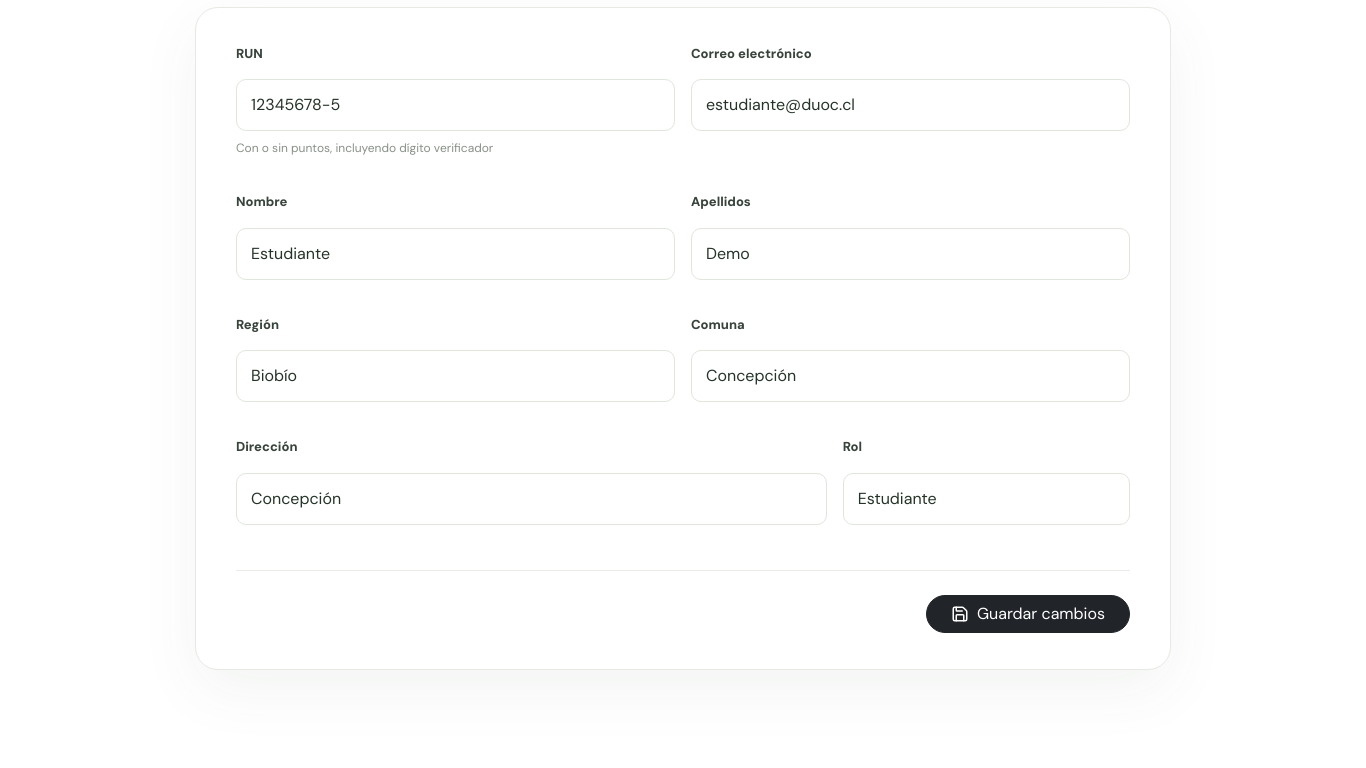
Test: Registro y usuarios › edita el rol de un usuario en el mantenedor
This screenshot has width=1366, height=768.
(page scrolled)
Select "Administrador" in the dropdown labelled "Rol" at point(986, 499), box [843,473,1130,525]
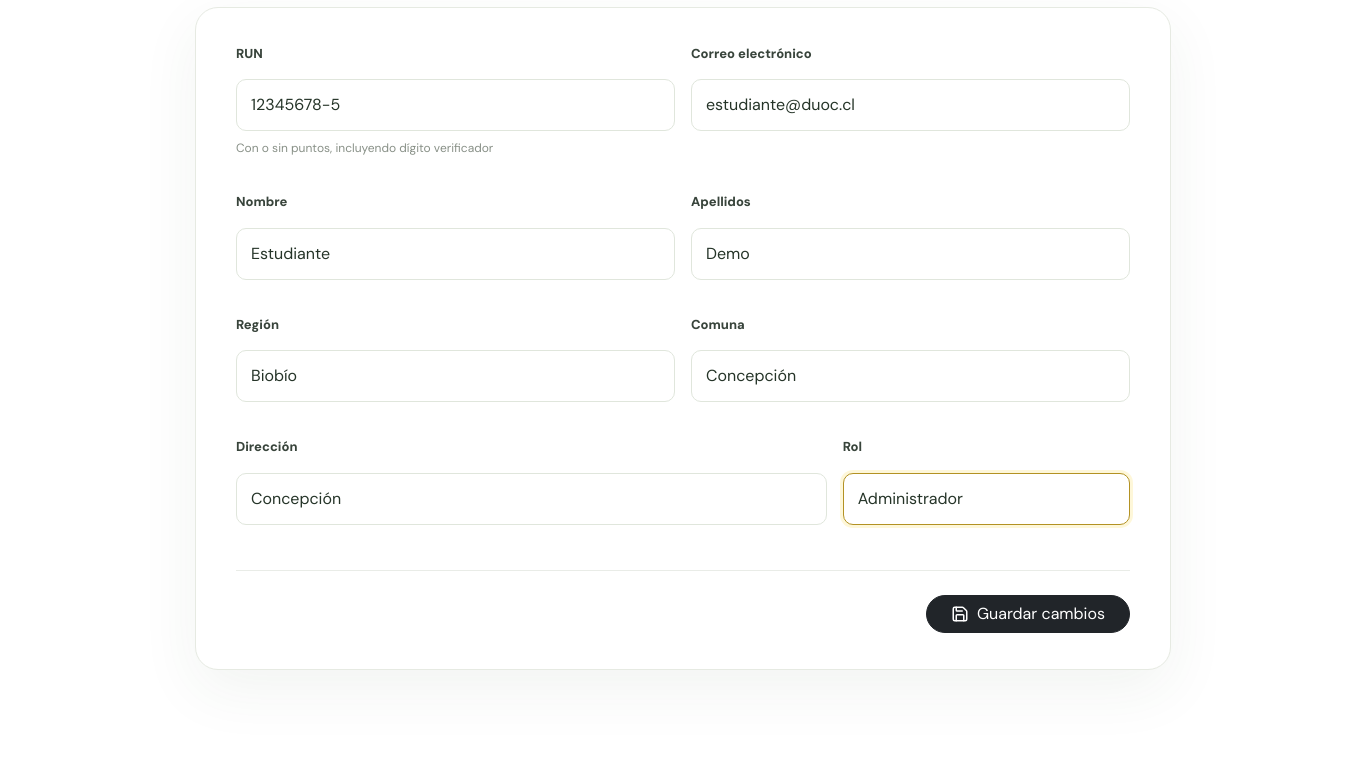
Click the button "Guardar cambios".
click(1028, 614)  # box [926,595,1130,633]
(page scrolled)
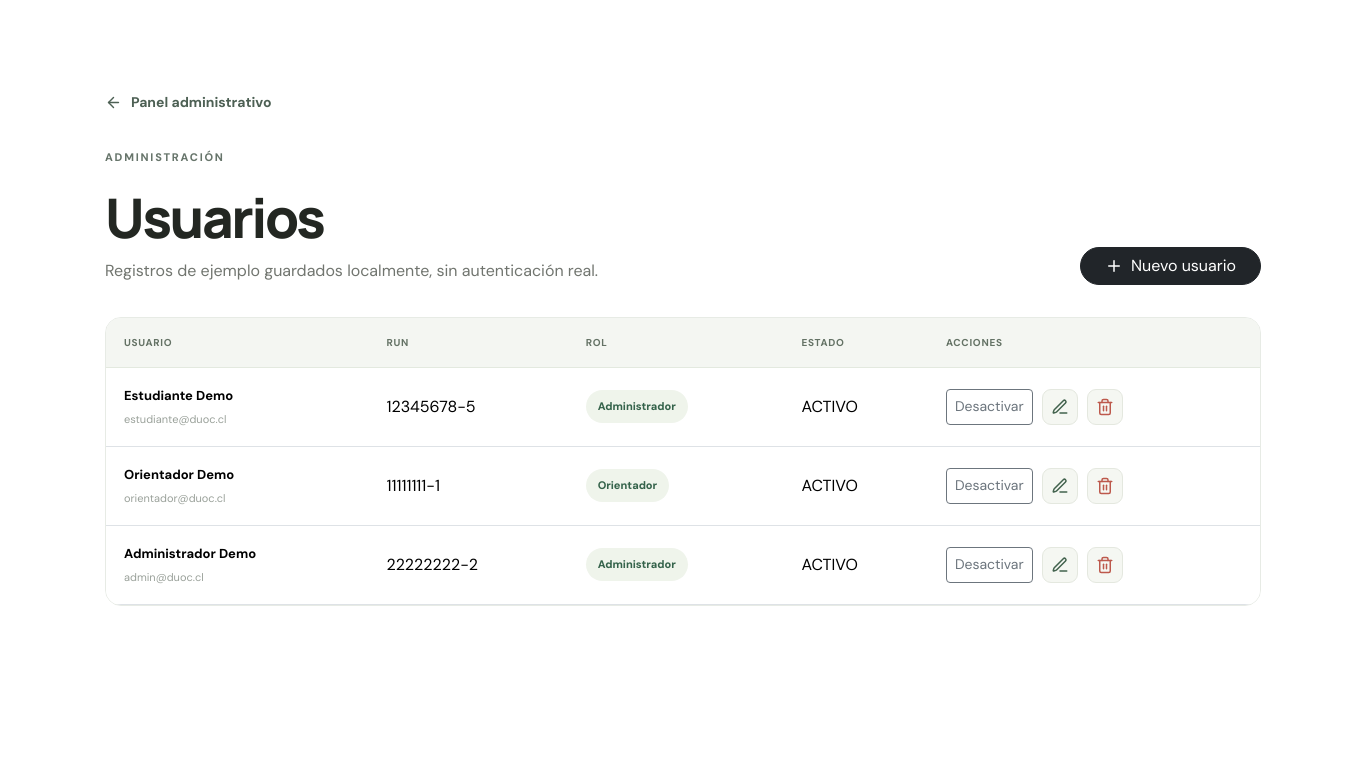
Check: the text "Administrador" in the row of "estudiante@duoc.cl" is shown, box [598,399,676,413]
